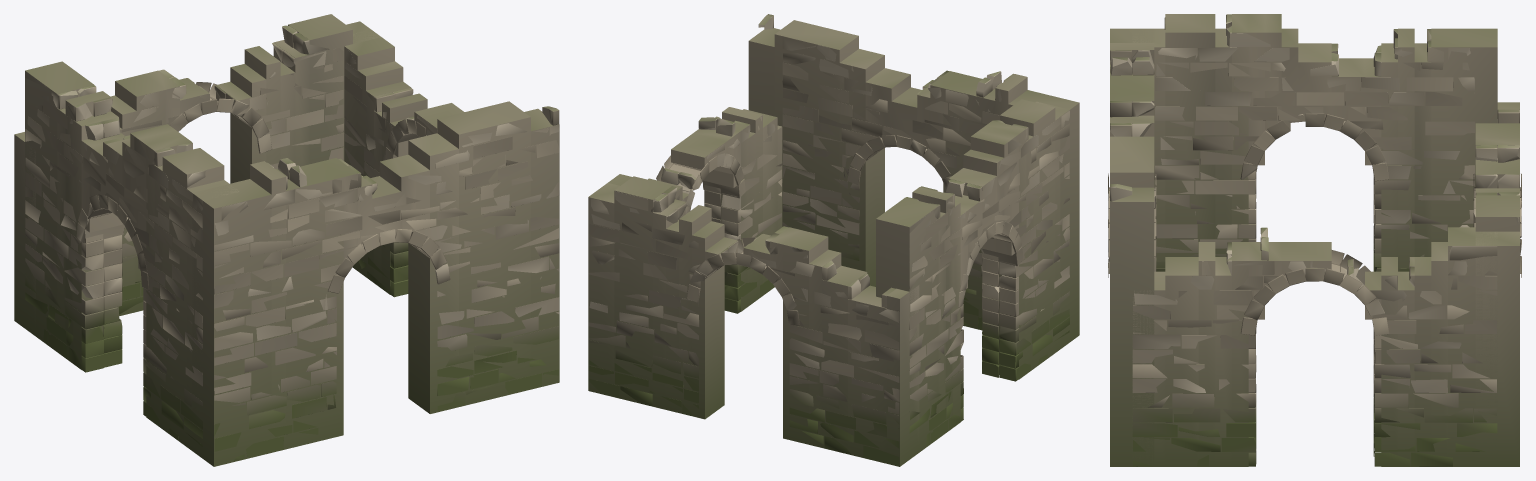
Rendered from citadel_keep.glb.
3 views of the same model, side by side, from view 1: azimuth 30°, elevation 25°; view 2: azimuth 150°, elevation 25°; view 3: azimuth 270°, elevation 25° (orthographic). The views are drawn at different scales.
Parts seen in each view (by area): view 1: citadel_keep_far, citadel_keep; view 2: citadel_keep_far, citadel_keep; view 3: citadel_keep_far, citadel_keep.
Boxes of the visible parts, box(x1,y1,x2,y2) form: citadel_keep_far: box(14, 14, 559, 466); citadel_keep: box(25, 14, 559, 461); citadel_keep_far: box(588, 20, 1079, 466); citadel_keep: box(588, 14, 1069, 466); citadel_keep_far: box(1110, 14, 1519, 466); citadel_keep: box(1108, 14, 1521, 466).
Size of the model in its own units: 56.02 by 41.8 by 56.02.
